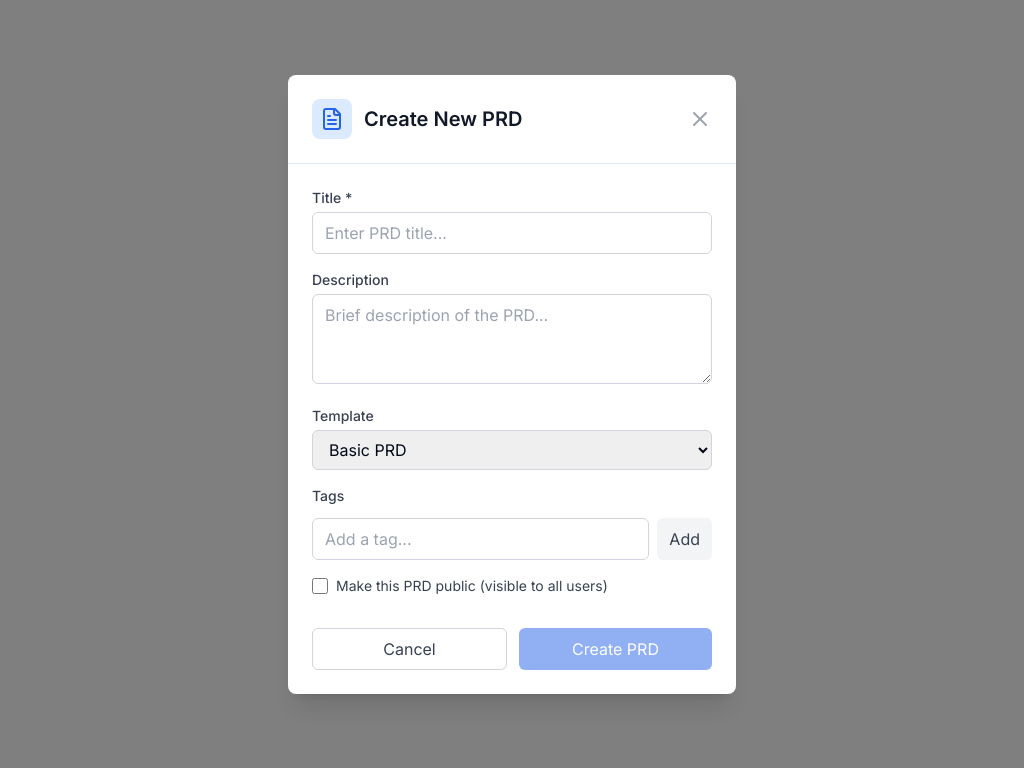
Test: CreatePRDModal › disables submit button when title is empty
The width and height of the screenshot is (1024, 768).
Expected: the button "Create PRD" is disabled, x1=519 y1=628 x2=712 y2=670
// Add title to enable button
Type "Test PRD" into the field with placeholder "Enter PRD title..." at (512, 232), box x1=312 y1=212 x2=712 y2=254
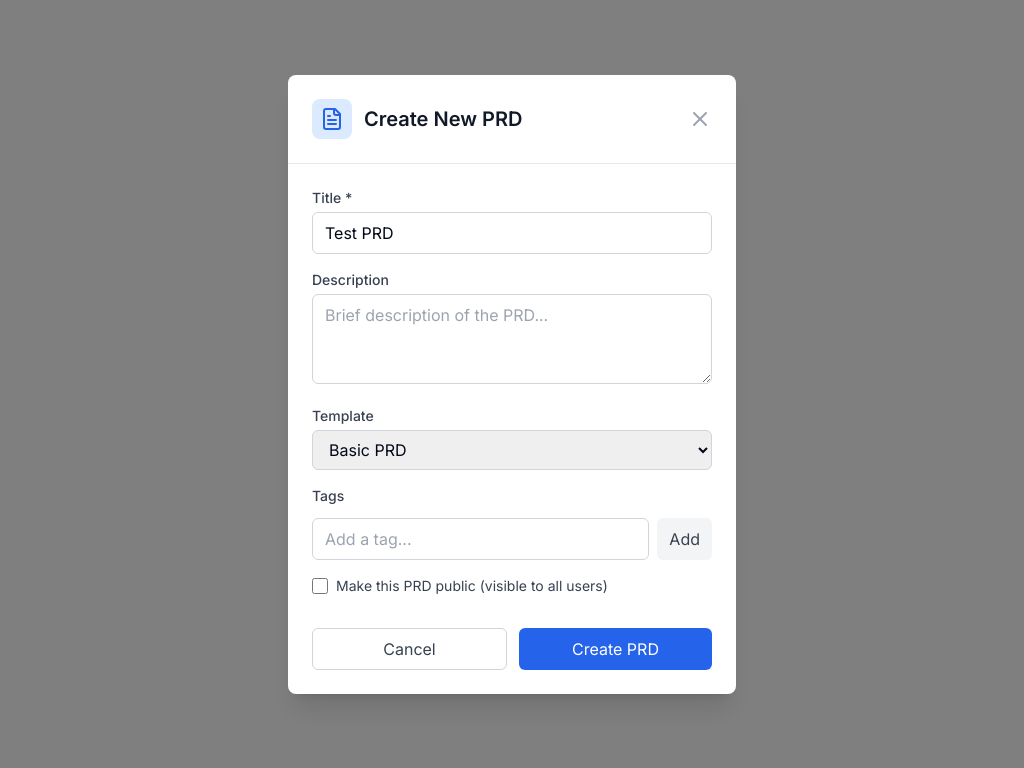
Expected: the button "Create PRD" is enabled, x1=519 y1=628 x2=712 y2=670
